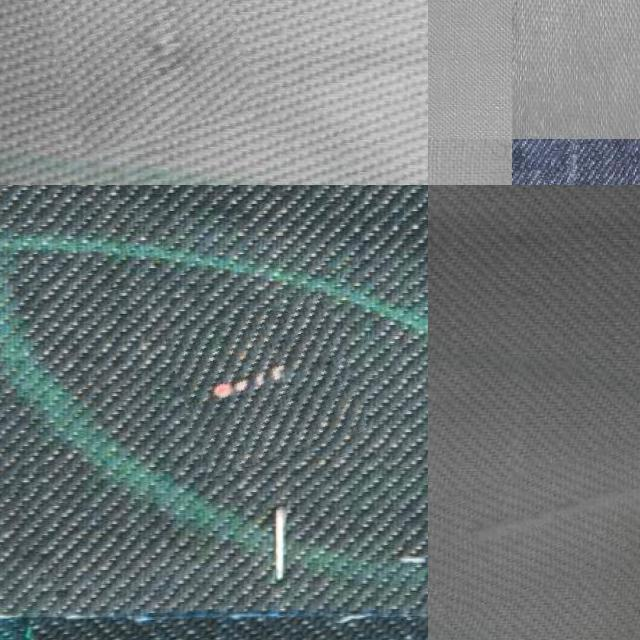Thread_other: (428, 439, 640, 599), (172, 302, 358, 468), (44, 0, 247, 144)
